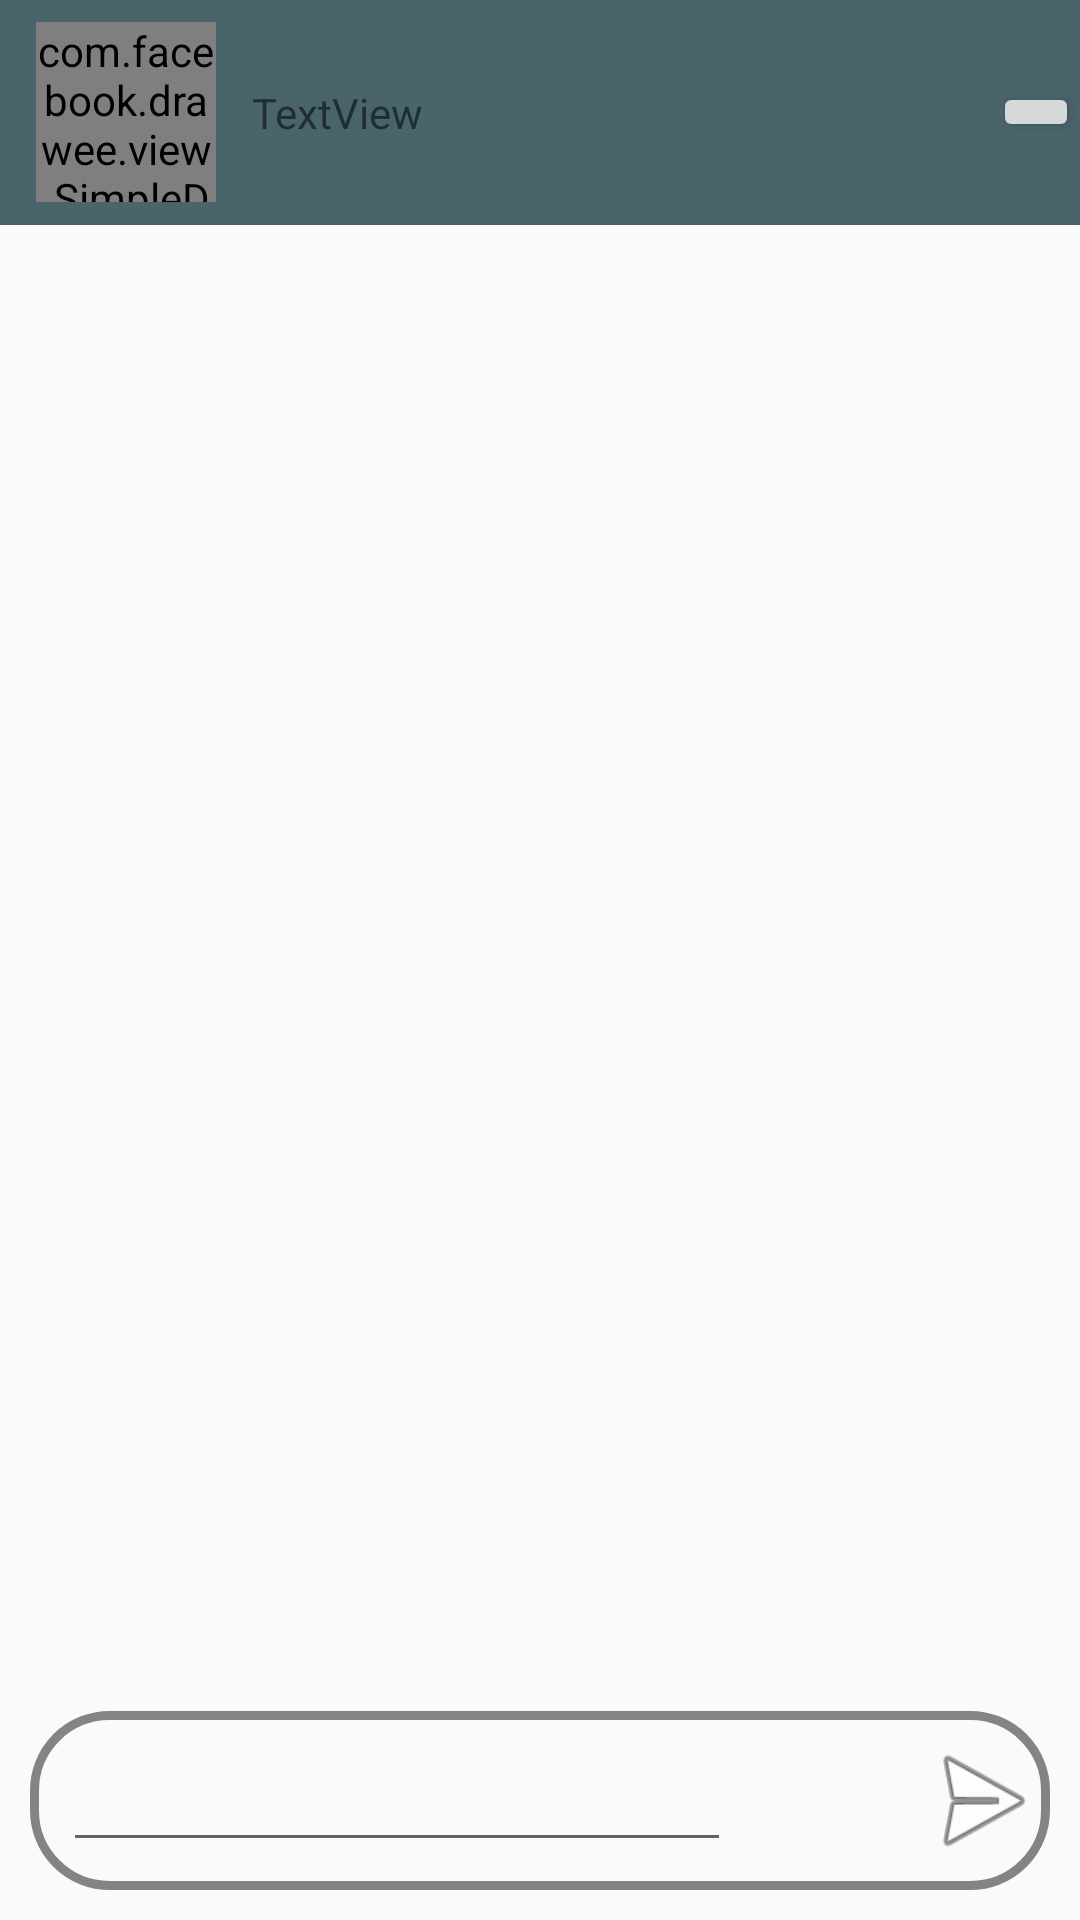

Screen size 1080x1920. Icon name, then its box in pixels as (x1, y1, x2, y2):
send: (943, 1755, 1025, 1846)
